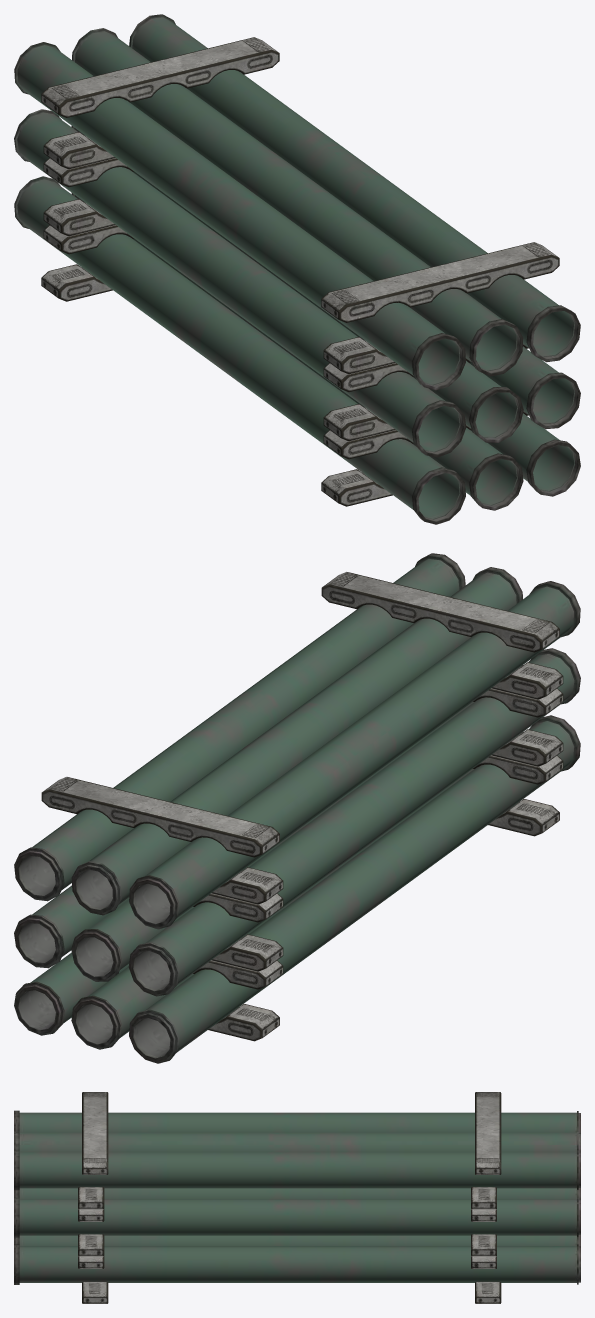
Rendered from pipe-bundle.gltf.
The picture shows the model from 3 angles, top to bottom: view 1: azimuth 30°, elevation 25°; view 2: azimuth 150°, elevation 25°; view 3: azimuth 270°, elevation 25°; orthographic projection. The views are drawn at different scales.
Parts seen in each view (by area): view 1: prop; view 2: prop; view 3: prop.
Boxes of the visible parts, box(x1,y1,x2,y2) form: prop: box(14, 14, 580, 524); prop: box(14, 553, 580, 1063); prop: box(14, 1092, 580, 1303).
Size of the model in its own units: 0.9656 by 0.8404 by 3.05.
Materials: 1 (1 with a texture image).
